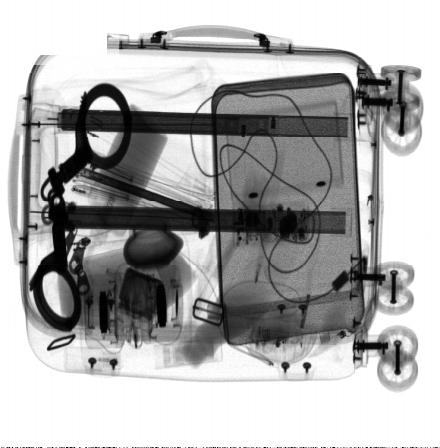HandCuffs: (26, 82, 132, 337)
